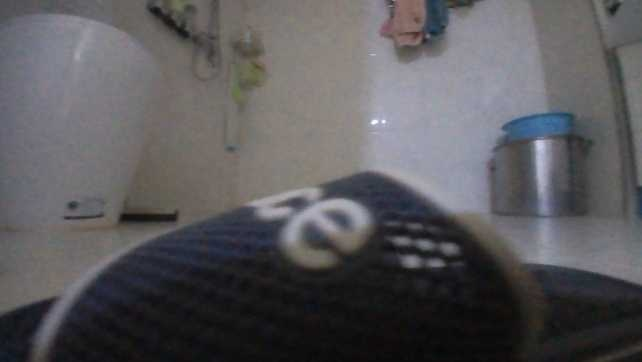toilet: (0, 9, 160, 233)
